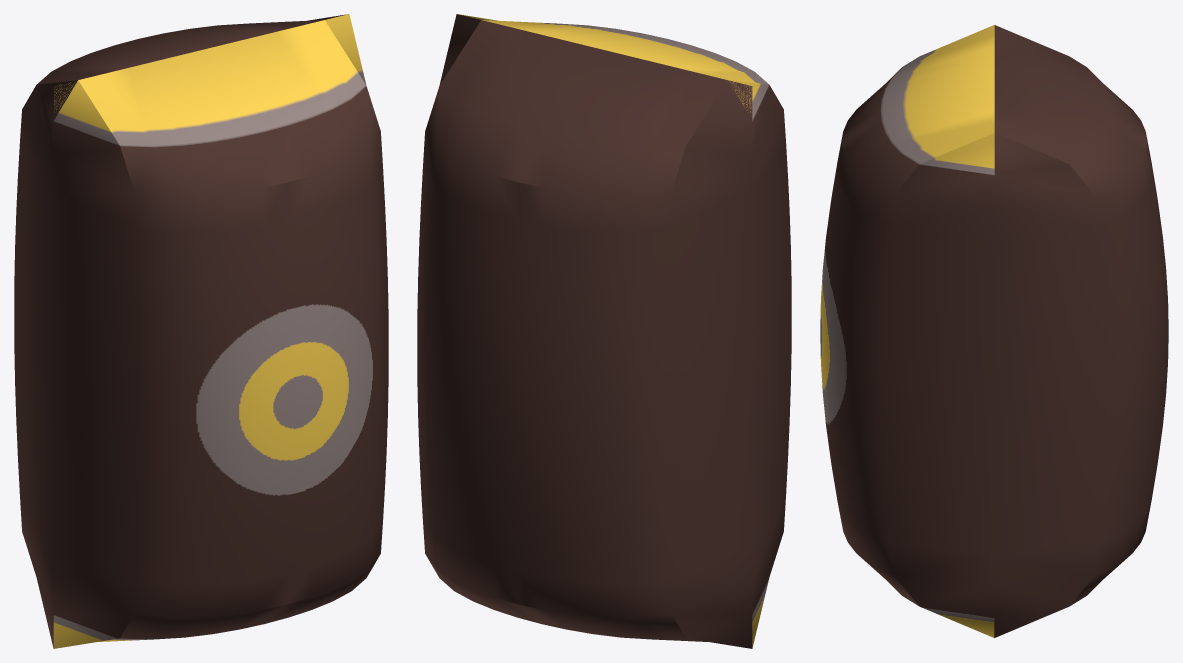
File: Coffee.fbx
3 views of the same model, side by side, from view 1: azimuth 30°, elevation 25°; view 2: azimuth 150°, elevation 25°; view 3: azimuth 270°, elevation 25° (orthographic). The views are drawn at different scales.
Visible parts, largest first — view 1: Coffee; view 2: Coffee; view 3: Coffee.
Part boxes in pixels (x1=…): Coffee: x1=14, y1=14, x2=388, y2=648; Coffee: x1=417, y1=14, x2=791, y2=648; Coffee: x1=820, y1=25, x2=1168, y2=637.
Bounding box in the file's own units: 0.11 × 0.2 × 0.125.
2 materials, 1 textured.
